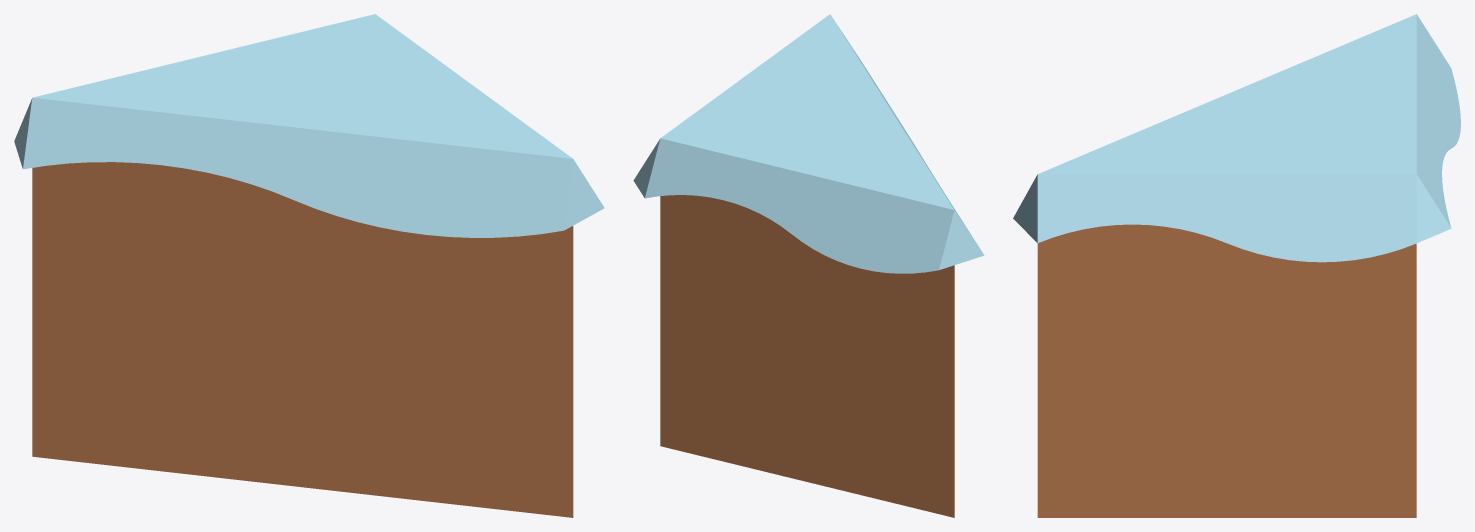
Rendered from blockSnowCornerLarge.obj.
3 views of the same model, side by side, from view 1: azimuth 30°, elevation 25°; view 2: azimuth 150°, elevation 25°; view 3: azimuth 270°, elevation 25° (orthographic). The views are drawn at different scales.
Parts seen in each view (by area): view 1: blockSnowCornerLarge; view 2: blockSnowCornerLarge; view 3: blockSnowCornerLarge.
Part boxes in pixels (box(x1,y1,x2,y2)): blockSnowCornerLarge: box(14, 14, 604, 517); blockSnowCornerLarge: box(633, 14, 984, 517); blockSnowCornerLarge: box(1013, 14, 1460, 517).
Size of the model in its own units: 1.18 by 1 by 1.18.
